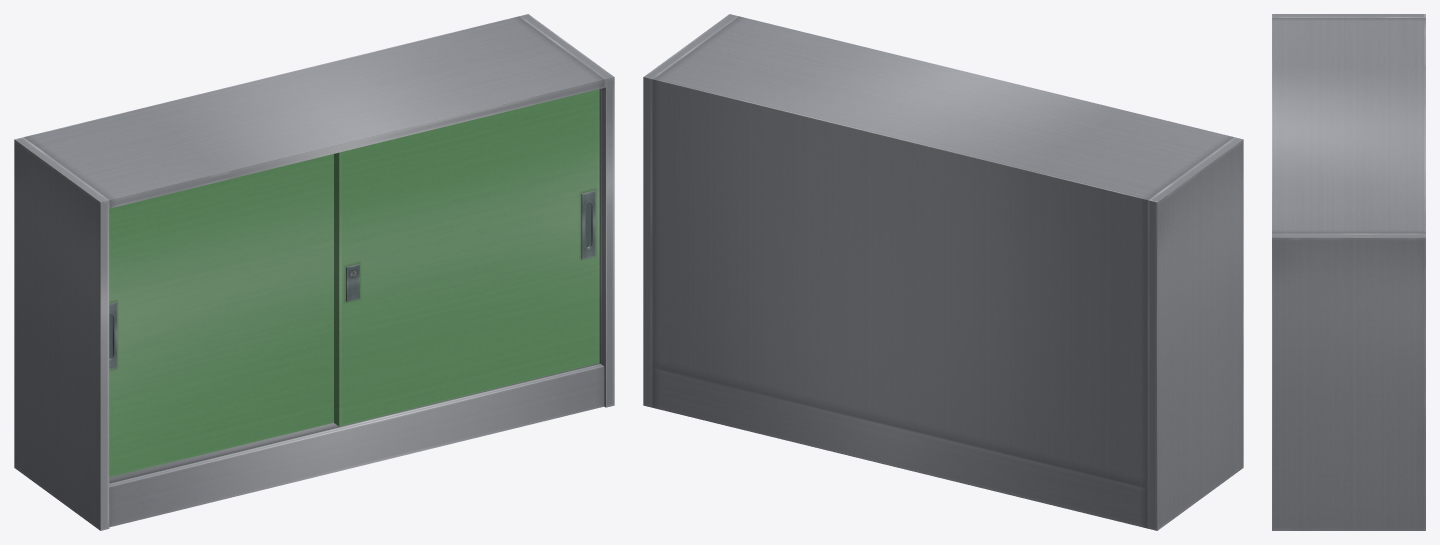
Rendered from Rack_02_01.fbx.
The picture shows the model from 3 angles, left to right: view 1: azimuth 30°, elevation 25°; view 2: azimuth 150°, elevation 25°; view 3: azimuth 270°, elevation 25°; orthographic projection. The views are drawn at different scales.
Visible parts, largest first — view 1: rack_02, door_R, door_L; view 2: rack_02; view 3: rack_02.
Part boxes in pixels (x1,y1,x2,y2): rack_02: (14, 14, 614, 530); door_R: (334, 89, 599, 426); door_L: (109, 154, 333, 477); rack_02: (643, 14, 1243, 530); rack_02: (1272, 14, 1425, 530).
Bounding box in the file's own units: 152 × 92.8 × 44.1.
